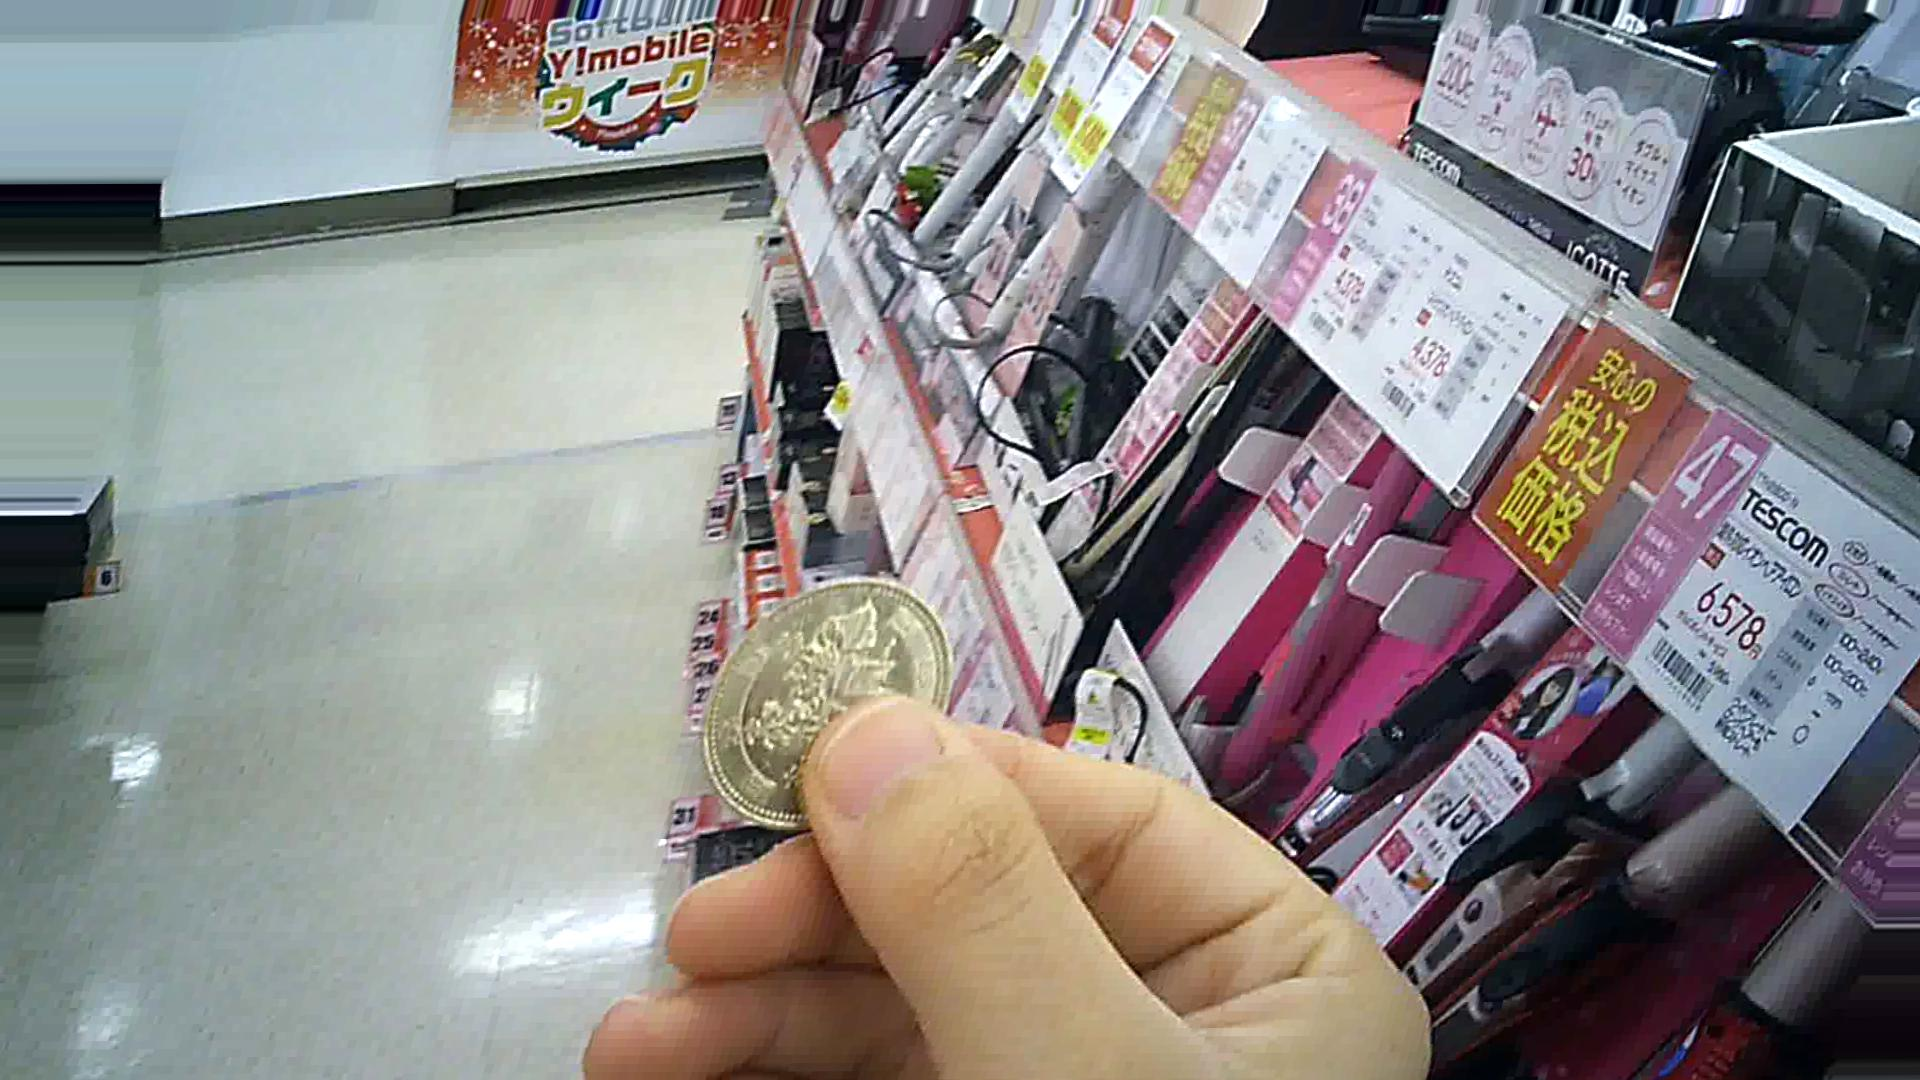500 Yen: (683, 578, 978, 819)
